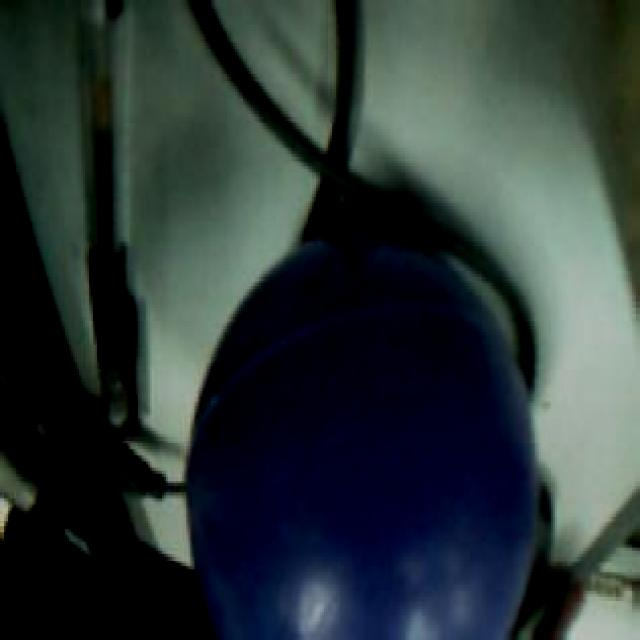BallPurple: (181, 223, 537, 640)
